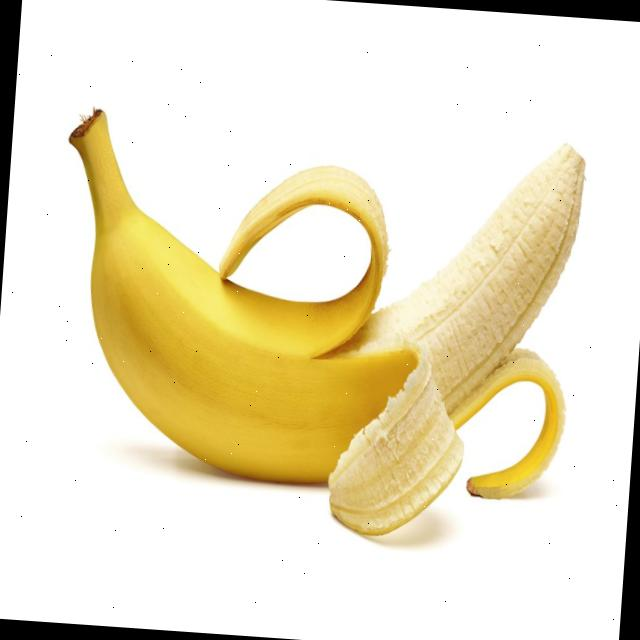Pisang: (41, 101, 588, 547), (323, 332, 570, 548)
